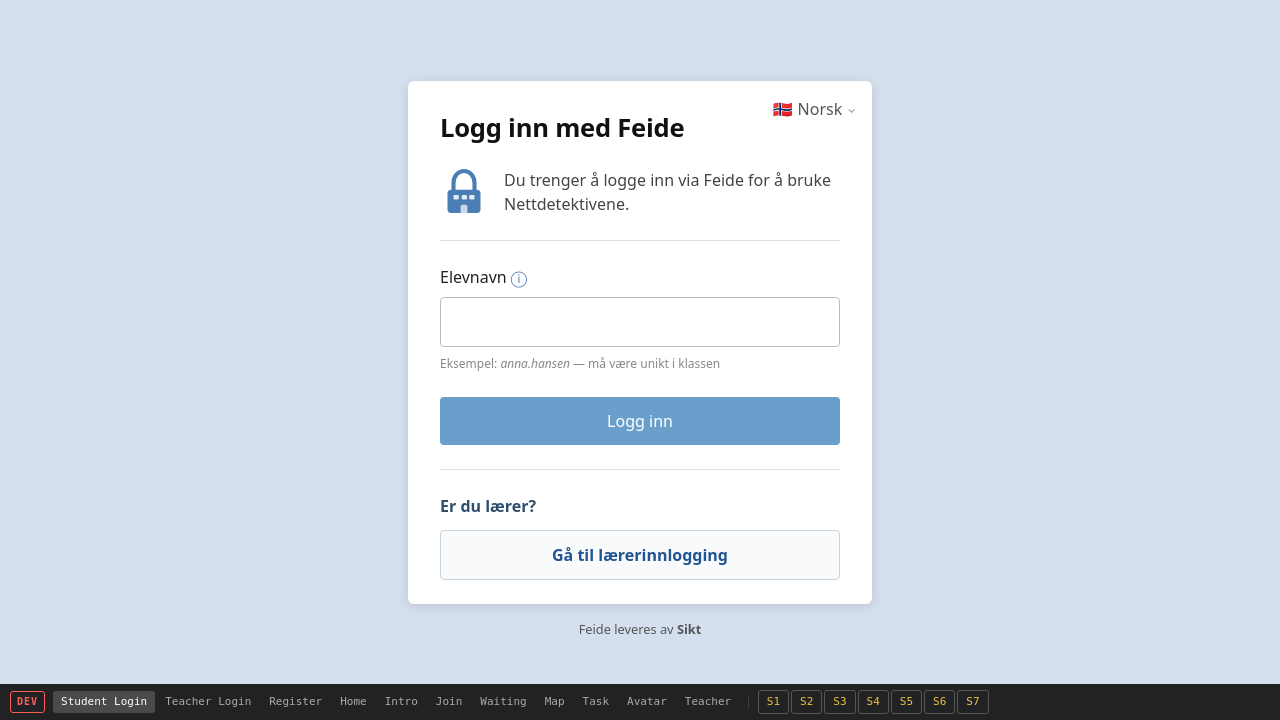
Test case: Student front page › navigates to the teacher login page from the student front page
The image size is (1280, 720).
Click the link "Gå til lærerinnlogging" at (640,555), box [440,530,840,580]
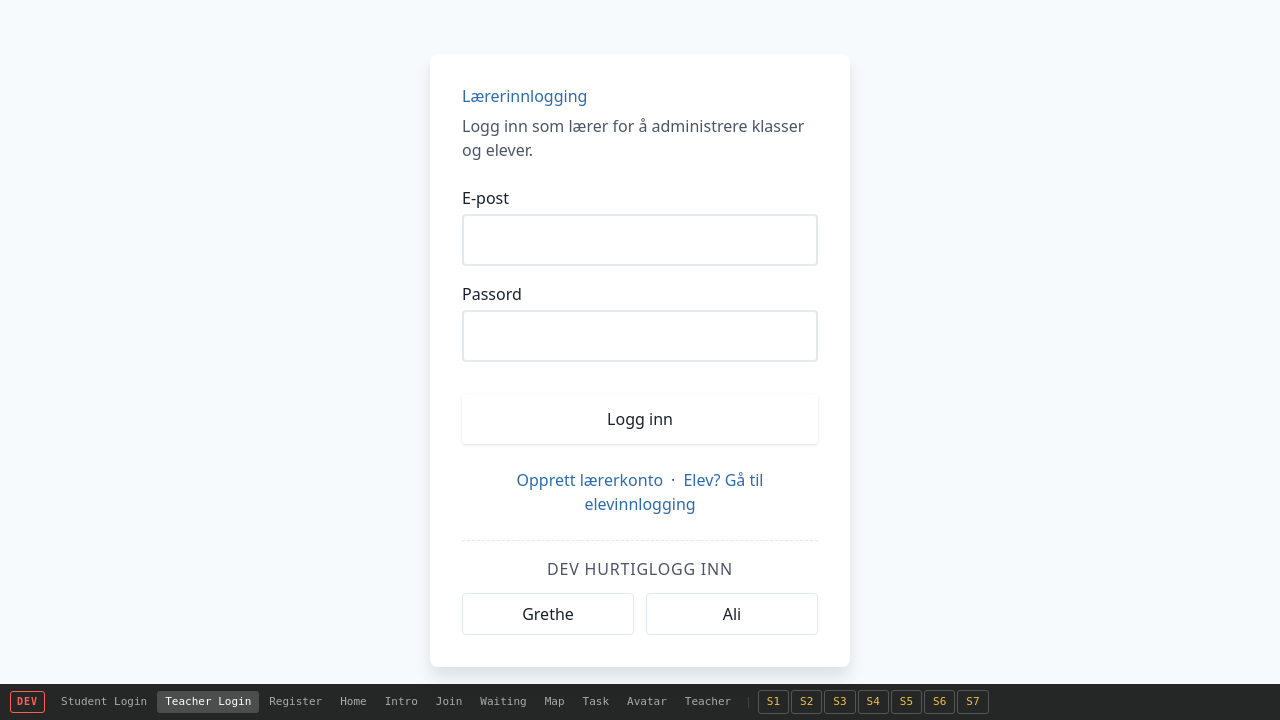
Now the field labelled "E-post" is shown, box [462,214,818,266]
